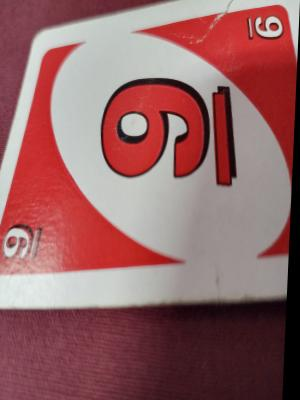num_9: (89, 71, 246, 204), (0, 215, 47, 280), (242, 3, 290, 50)
